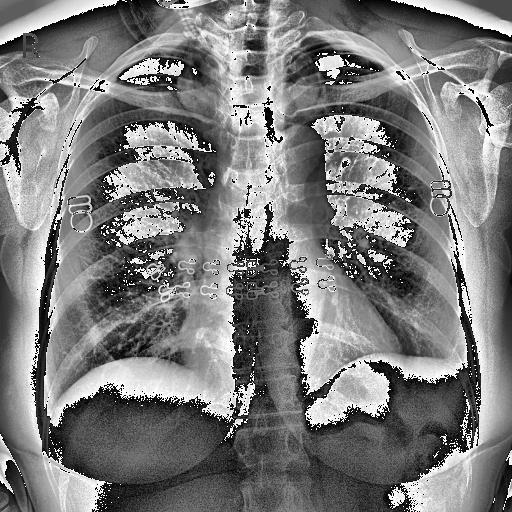0- Aortic enlargement: (263, 124, 326, 202), (271, 124, 325, 186), (269, 124, 328, 178)
10- Pleural effusion: (435, 344, 474, 400), (448, 343, 481, 385), (438, 351, 468, 389)
11- Pleural thickening: (435, 344, 474, 400), (448, 343, 481, 385), (438, 351, 468, 389)
3- Cardiomegaly: (178, 330, 400, 390)
